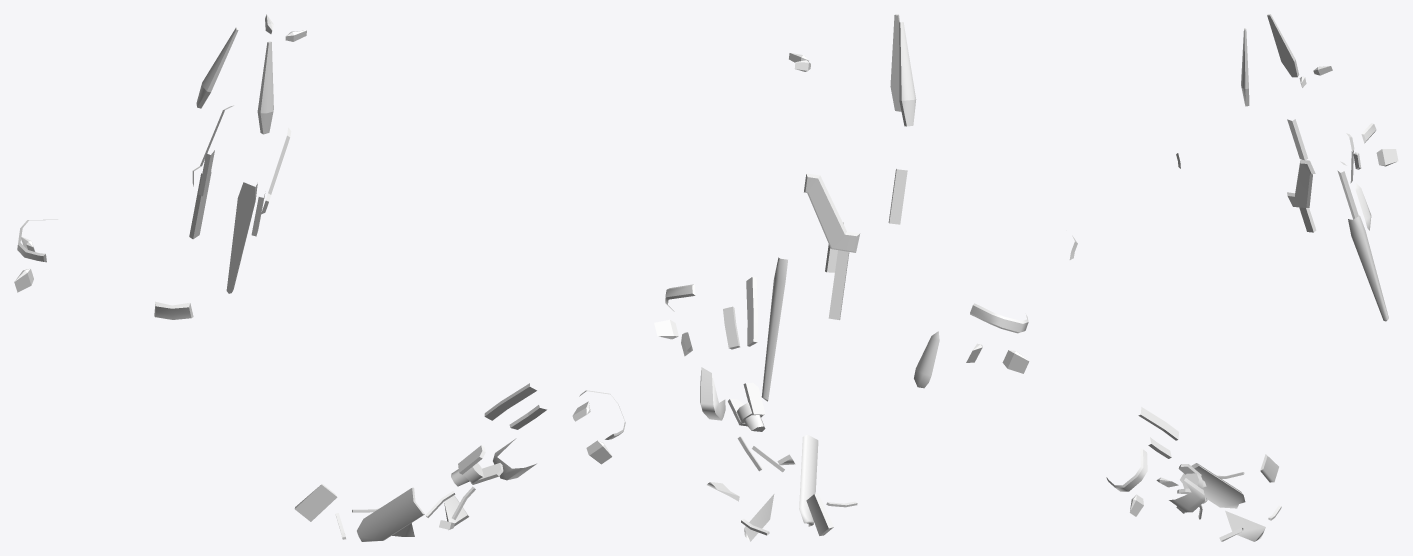
The model's file is ama_ship_wreck_01_04.glb.
3 views of the same model, side by side, from view 1: azimuth 30°, elevation 25°; view 2: azimuth 150°, elevation 25°; view 3: azimuth 270°, elevation 25° (orthographic). The views are drawn at different scales.
Parts seen in each view (by area): view 1: ama_ship_wreck_details_01_04_LOD0, ama_ship_wreck_01_04_LOD0; view 2: ama_ship_wreck_01_04_LOD0, ama_ship_wreck_details_01_04_LOD0; view 3: ama_ship_wreck_01_04_LOD0, ama_ship_wreck_details_01_04_LOD0.
Boxes of the visible parts, left/top/right/bottom form: ama_ship_wreck_details_01_04_LOD0: left=189, top=150, right=546, bottom=541; ama_ship_wreck_01_04_LOD0: left=14, top=14, right=625, bottom=480; ama_ship_wreck_01_04_LOD0: left=654, top=14, right=1077, bottom=420; ama_ship_wreck_details_01_04_LOD0: left=707, top=169, right=907, bottom=541; ama_ship_wreck_01_04_LOD0: left=1106, top=14, right=1398, bottom=516; ama_ship_wreck_details_01_04_LOD0: left=1138, top=119, right=1358, bottom=541.
Size of what is drawn, in the model's own units: 8.93 by 9.67 by 5.54.
Materials: 2 (2 with a texture image).
